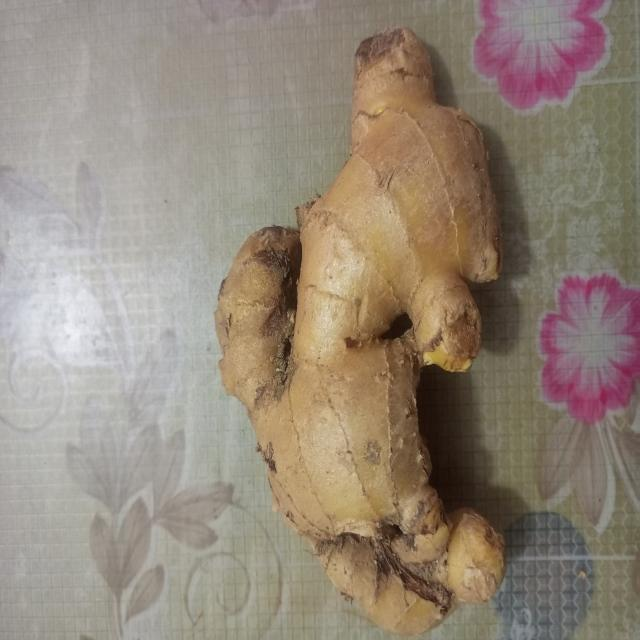ginger: (220, 34, 505, 628)
